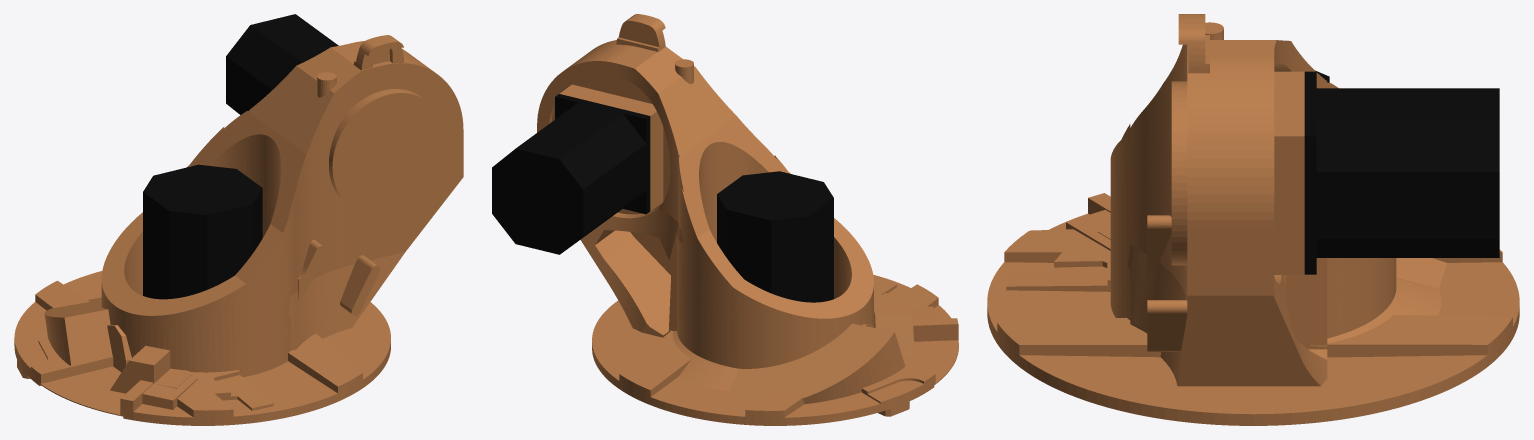
The picture shows the model from 3 angles, left to right: view 1: azimuth 30°, elevation 25°; view 2: azimuth 150°, elevation 25°; view 3: azimuth 270°, elevation 25°; orthographic projection. The views are drawn at different scales.
Parts seen in each view (by area): view 1: Link_1, Link_1_Motor1, Link_1_Motor2; view 2: Link_1, Link_1_Motor2, Link_1_Motor1; view 3: Link_1, Link_1_Motor2.
Boxes of the visible parts, box(x1,y1,x2,y2) form: Link_1: box(14, 35, 463, 425); Link_1_Motor1: box(143, 164, 262, 299); Link_1_Motor2: box(226, 14, 338, 114); Link_1: box(537, 14, 958, 425); Link_1_Motor2: box(492, 94, 650, 254); Link_1_Motor1: box(717, 171, 833, 302); Link_1: box(987, 14, 1519, 425); Link_1_Motor2: box(1304, 71, 1499, 274).
Size of the model in its own units: 0.663 by 0.5398 by 0.4619.
